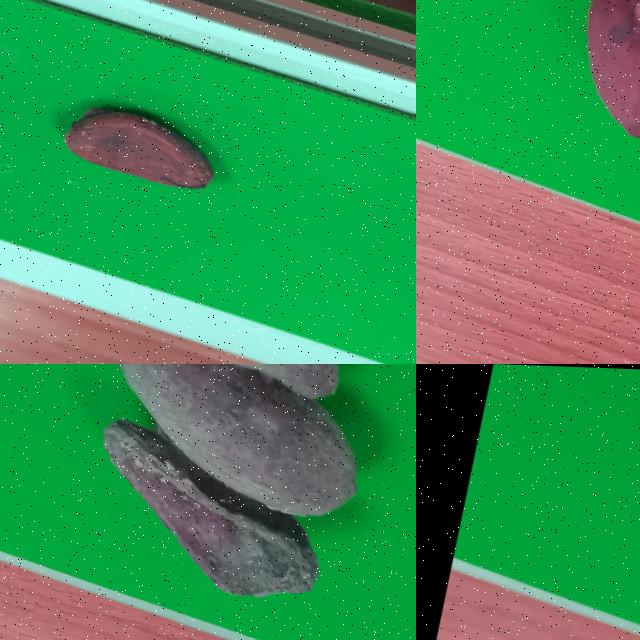Agglomerated_cocoabeans: (0, 364, 415, 639)
Fine_cocoabeans: (446, 0, 639, 202)
Flat_cocoabeans: (0, 5, 386, 305)
